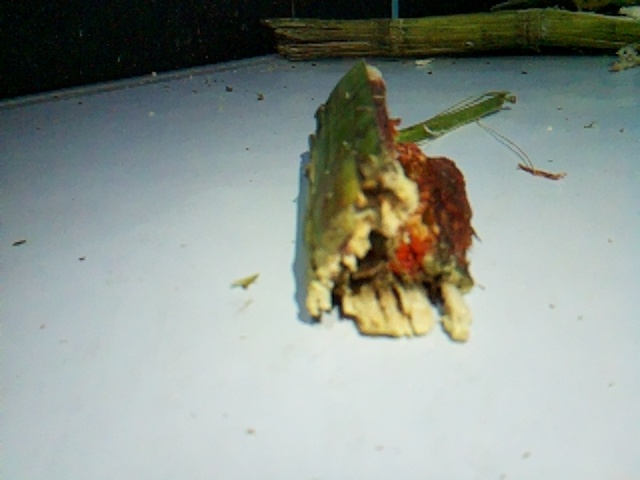Red-Rot: (303, 71, 483, 372)
